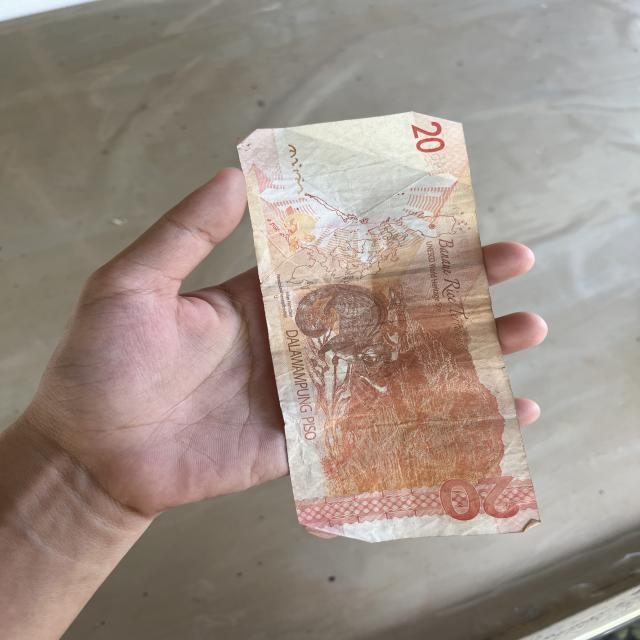20_civet: (298, 282, 392, 374)
20_civet_watermark: (272, 208, 317, 247)
